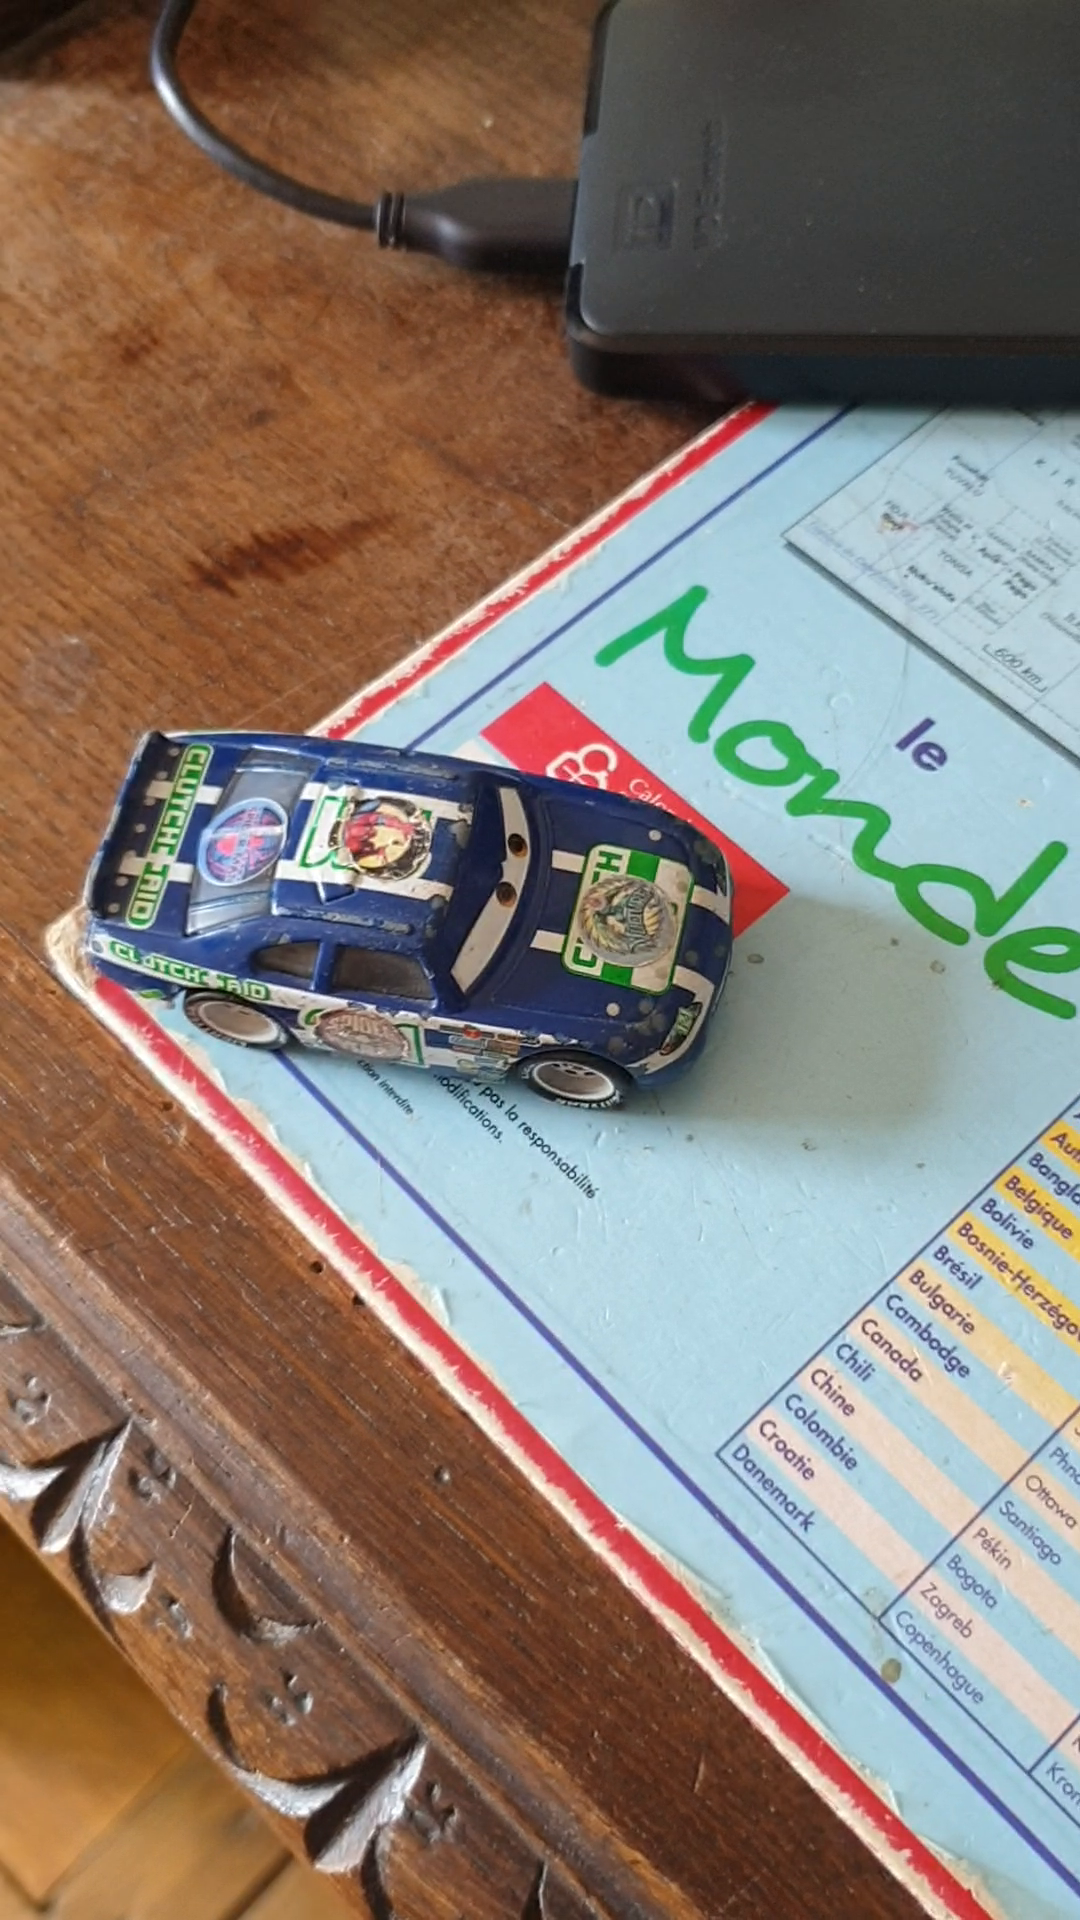cars: (75, 732, 737, 1122)
